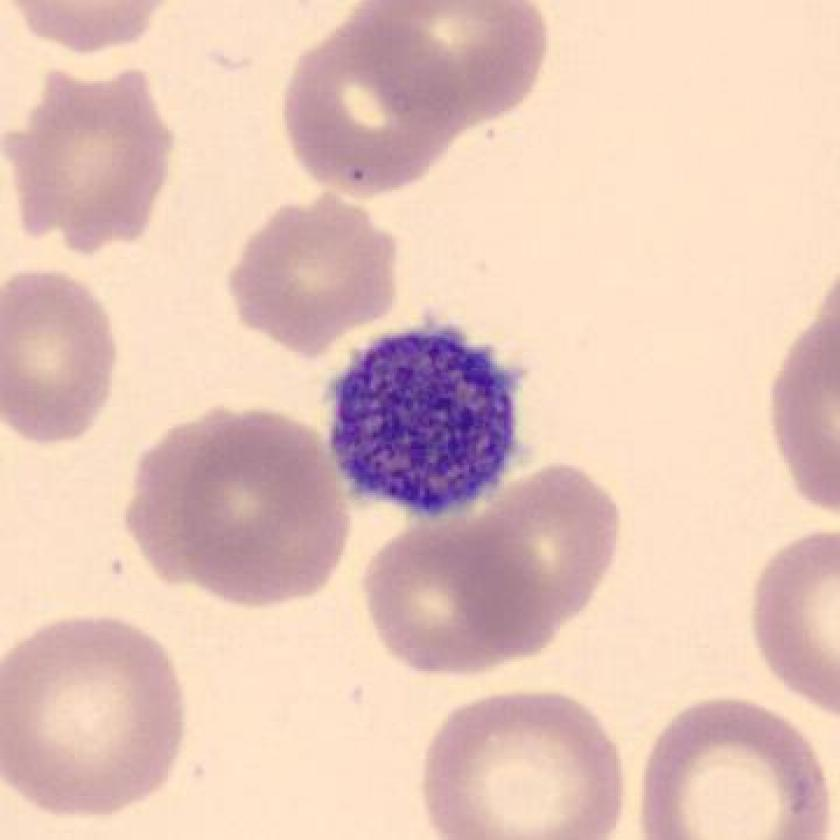platelets: (311, 304, 533, 531)
